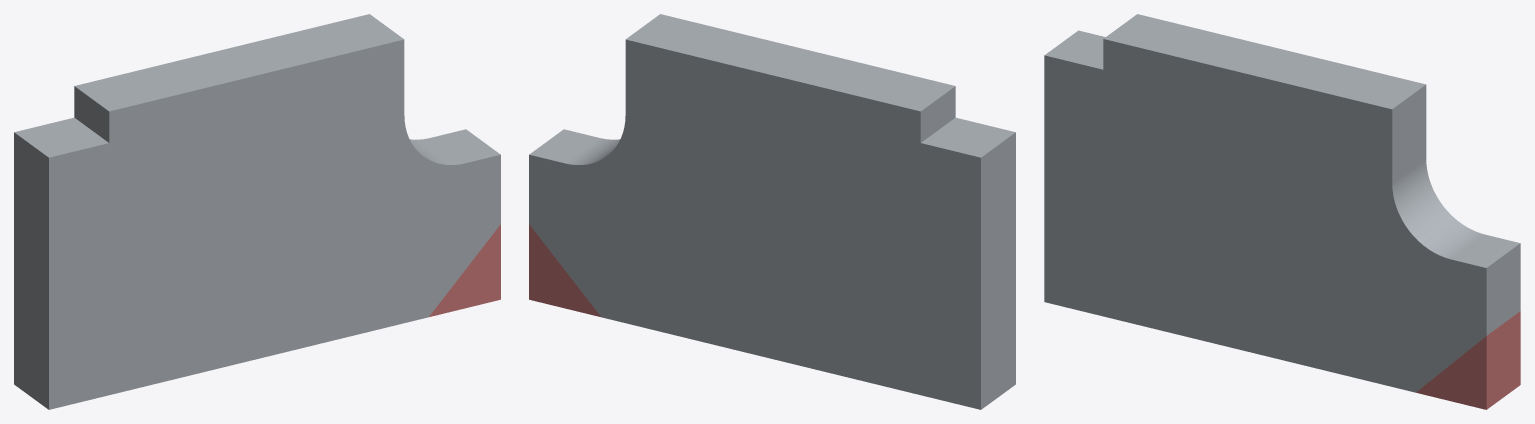
Rendered from step_05.glb.
3 renders of one model, left to right at view 1: azimuth 30°, elevation 25°; view 2: azimuth 150°, elevation 25°; view 3: azimuth 330°, elevation 25°, orthographic. The views are drawn at different scales.
Visible parts, largest first — view 1: part__the 10 plate, removed__the 10 plate; view 2: part__the 10 plate, removed__the 10 plate; view 3: part__the 10 plate, removed__the 10 plate.
Boxes of the visible parts, bbox=[...] form: part__the 10 plate: bbox=[14, 14, 500, 409]; removed__the 10 plate: bbox=[429, 224, 500, 316]; part__the 10 plate: bbox=[529, 14, 1015, 409]; removed__the 10 plate: bbox=[529, 224, 600, 316]; part__the 10 plate: bbox=[1044, 14, 1520, 392]; removed__the 10 plate: bbox=[1416, 311, 1520, 409].
Size of the model in its own units: 75 by 45 by 10.
